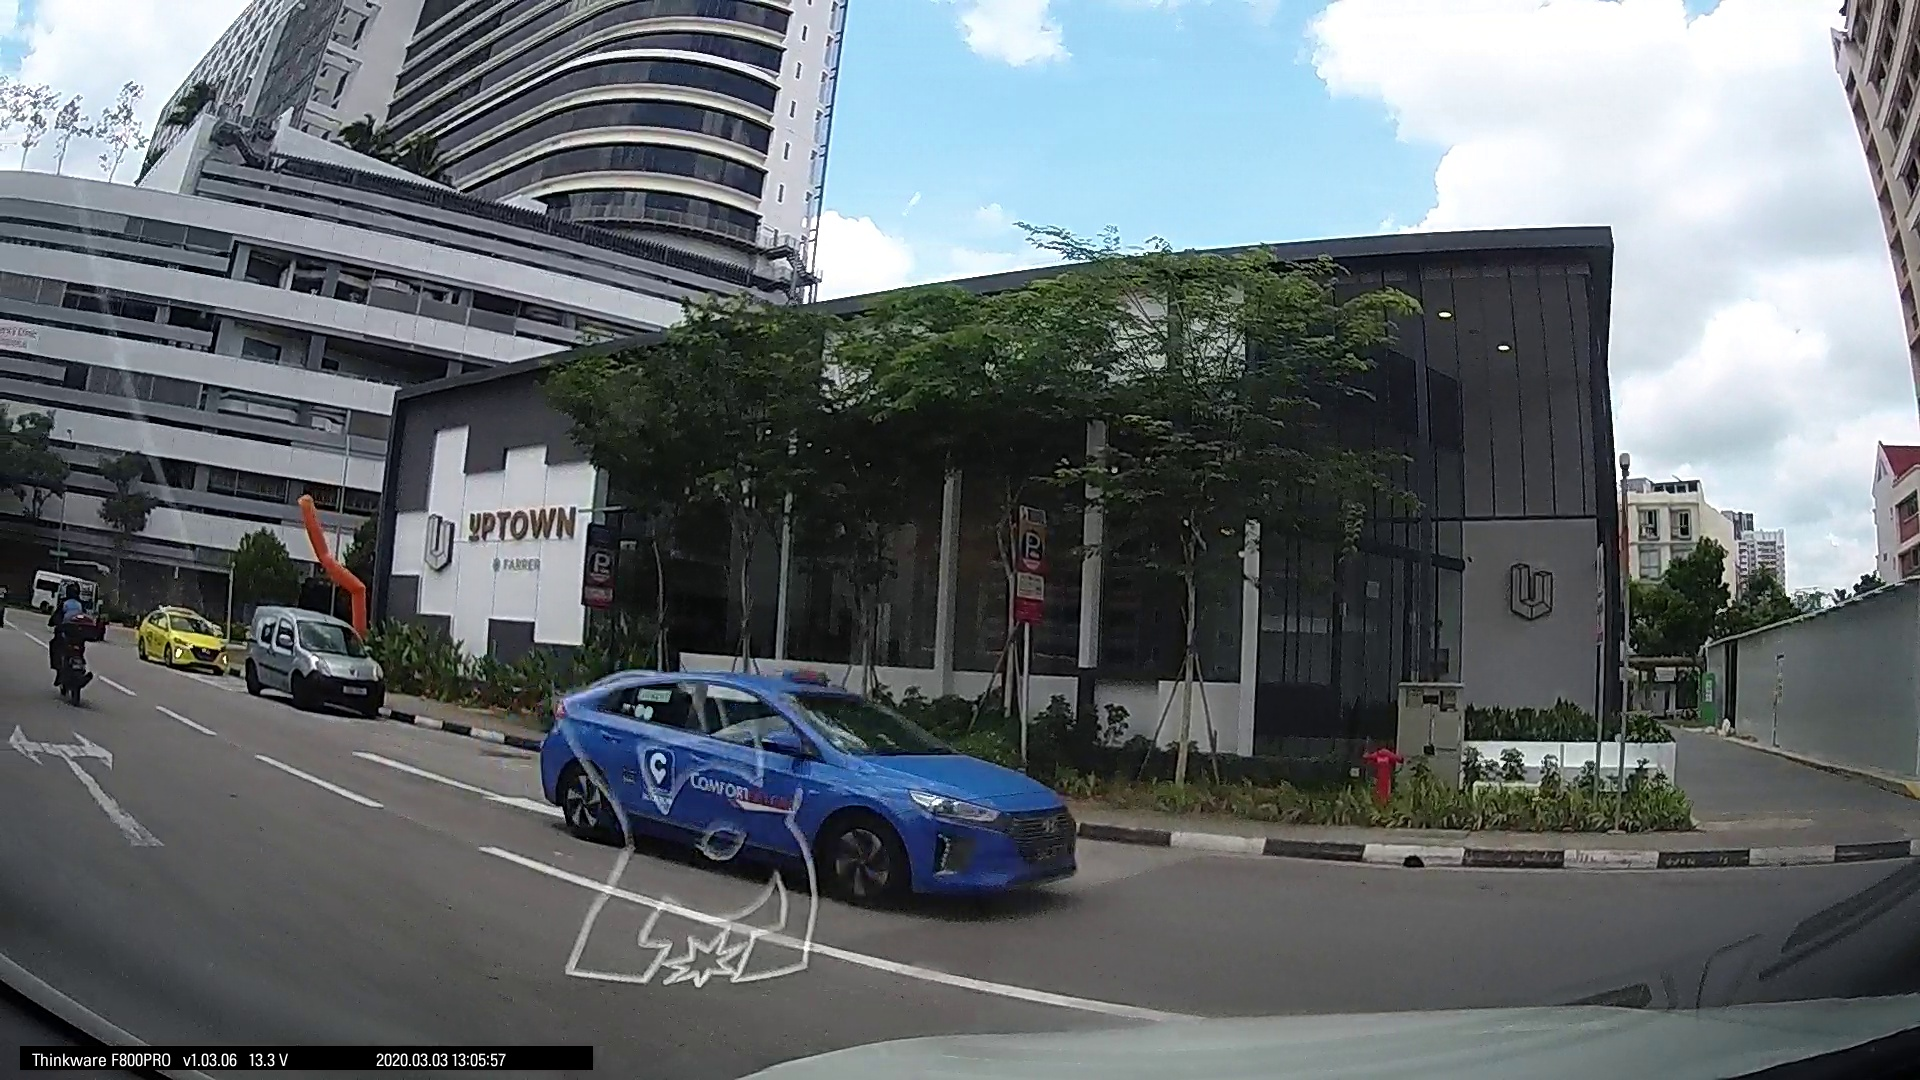Heavy Vehicle: (157, 496, 857, 855), (858, 564, 984, 737), (1195, 636, 1261, 705)
Light Vehicle: (1398, 680, 1542, 774), (1342, 670, 1423, 745)
